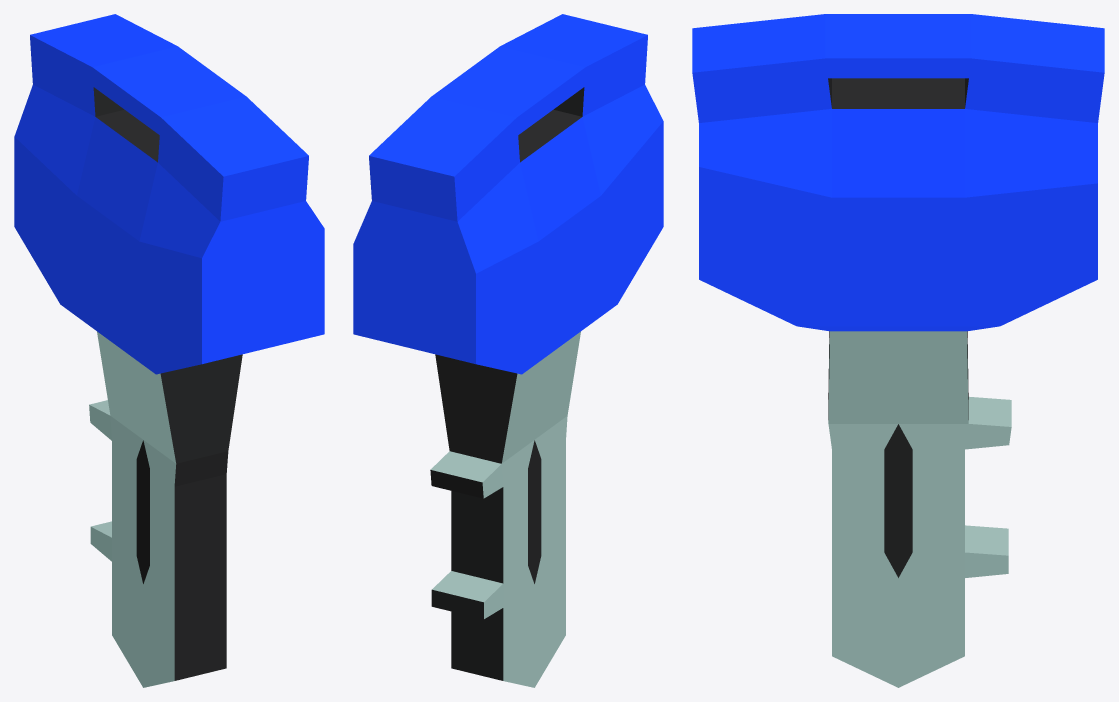
Rendered from KeyModel.fbx.
The picture shows the model from 3 angles, left to right: view 1: azimuth 30°, elevation 25°; view 2: azimuth 150°, elevation 25°; view 3: azimuth 270°, elevation 25°; orthographic projection. The views are drawn at different scales.
Parts seen in each view (by area): view 1: Key; view 2: Key; view 3: Key.
Part boxes in pixels (box(x1,y1,x2,y2)): Key: box(14, 14, 324, 687); Key: box(353, 14, 663, 687); Key: box(692, 14, 1104, 687).
Size of the model in its own units: 21.94 by 60.04 by 103.
